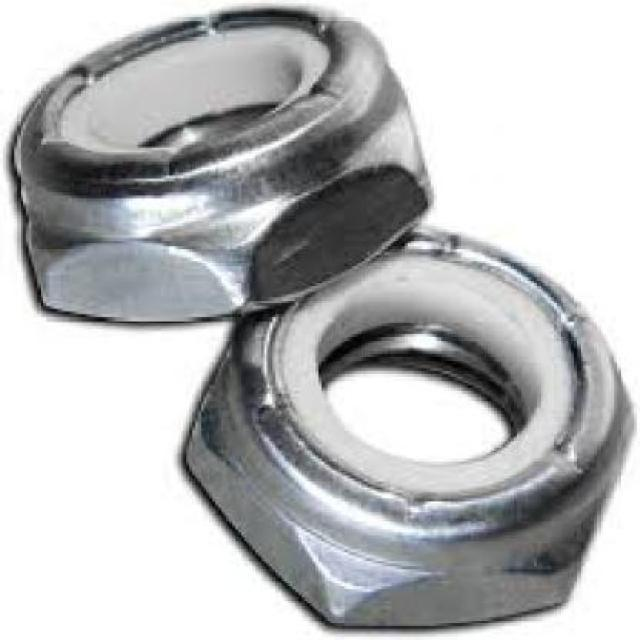METAL: (177, 223, 628, 626), (8, 3, 430, 320)
